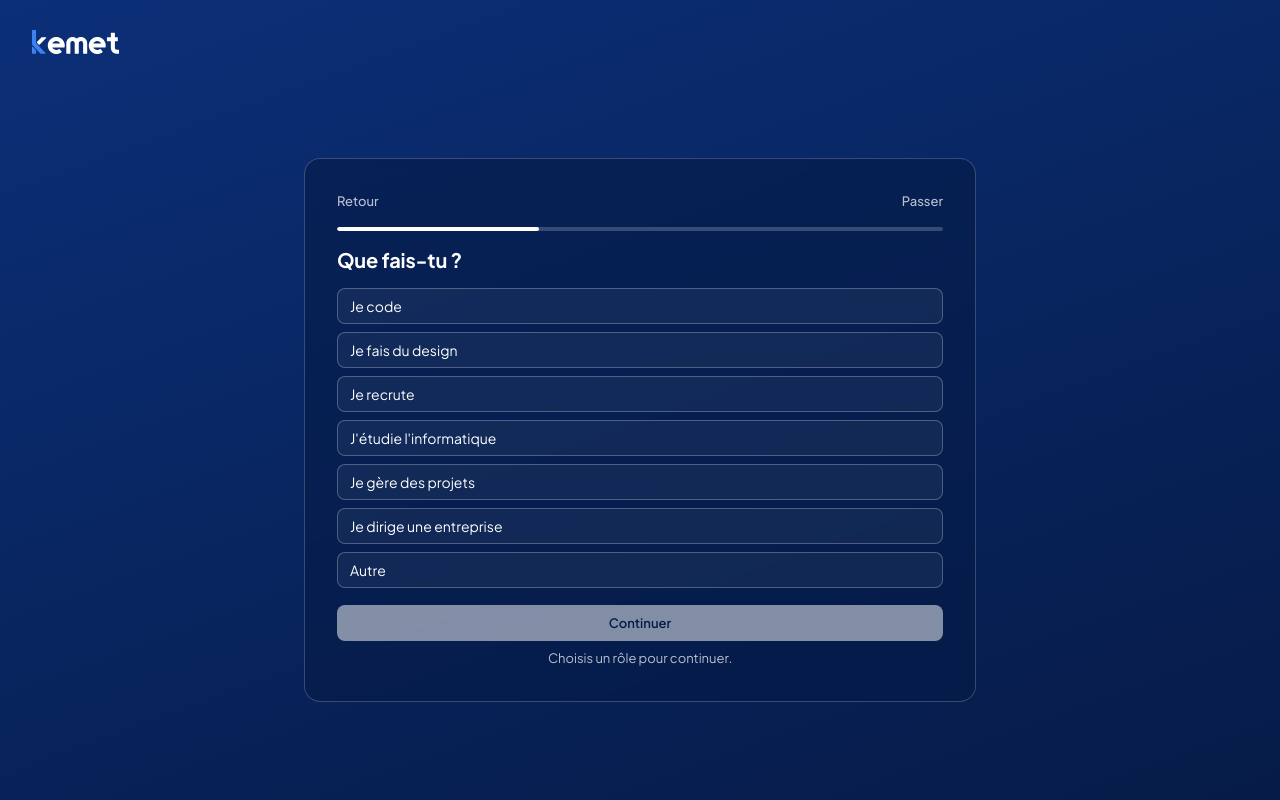
Test: OnboardingPage › Passer avance sans rien enregistrer d'autre que l'écran atteint
Click the button "Passer": (922,201) [894,183,951,219]
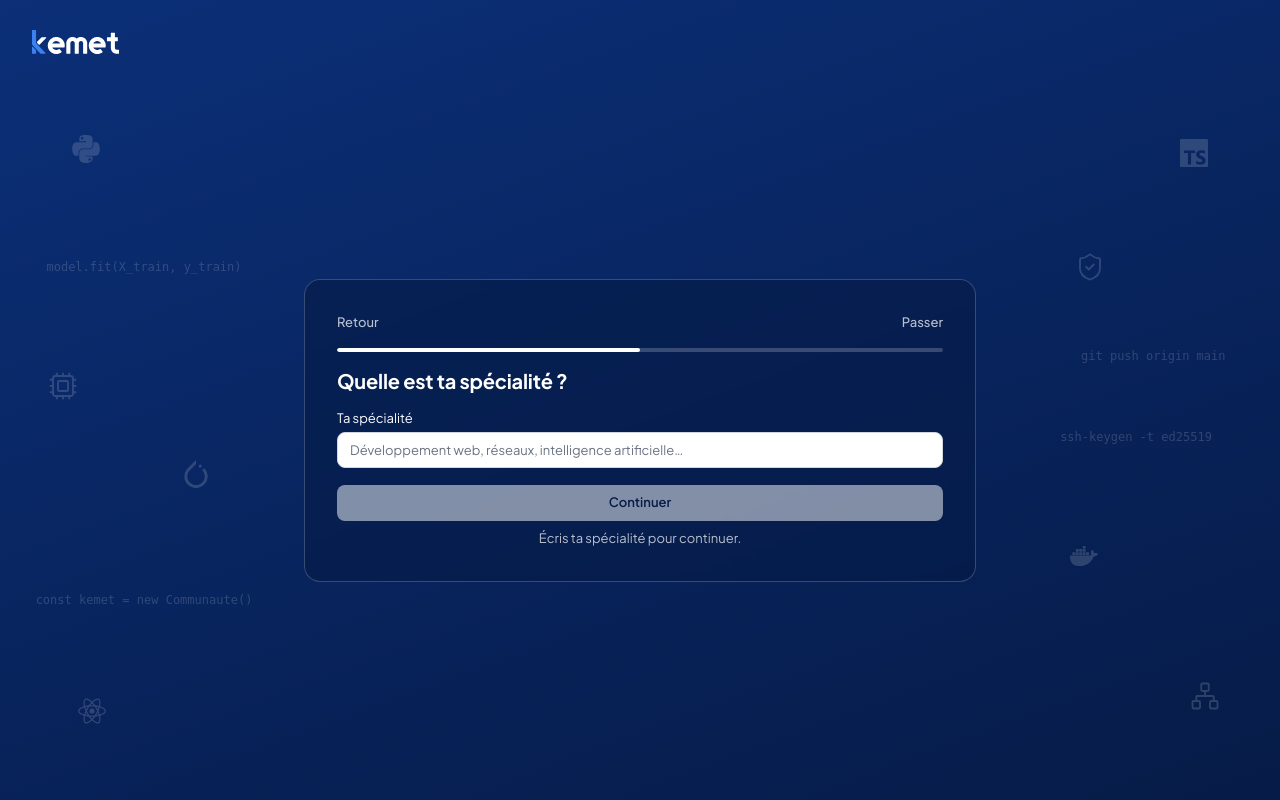
Check: the heading "Quelle est ta spécialité ?" is shown, box [337,368,568,392]
